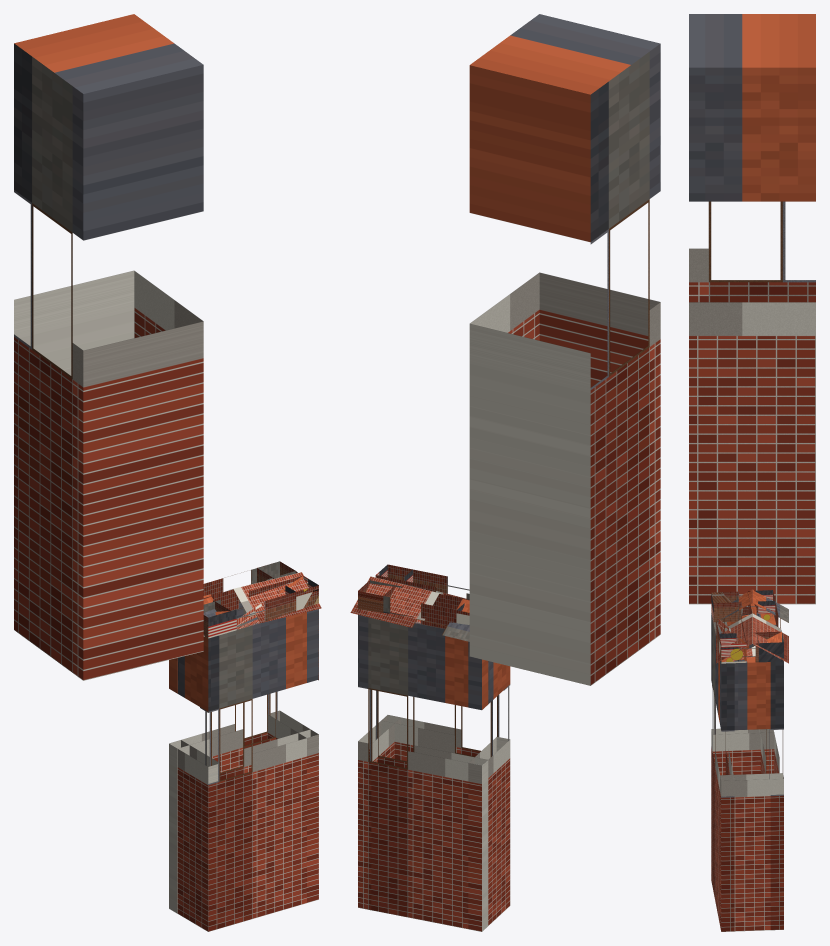
3 renders of one model, left to right at view 1: azimuth 30°, elevation 25°; view 2: azimuth 150°, elevation 25°; view 3: azimuth 270°, elevation 25°, orthographic. The views are drawn at different scales.
Parts seen in each view (by area): view 1: 238636764__chimney_0_xb, 238636764__wall_1_xb, 238636764__wall_0_xb, 238636764__wall_3_xb, 238636764__wall_2_xb, 238636764__cornice_1, 238636764_roof_-1_xb, 238636764__cornice_3; view 2: 238636764__chimney_0_xb, 238636764__wall_3_xb, 238636764__wall_0_xb, 238636764__wall_2_xb, 238636764__wall_1_xb, 238636764_roof_1_xb, 238636764__cornice_3, 238636764__cornice_1, 238636764__cornice_2; view 3: 238636764__chimney_0_xb, 238636764__wall_2_xb, 238636764__wall_1_xb, 238636764__wall_3_xb, 238636764__wall_0_xb, 238636764__cornice_0, 238636764_roof_1_xb, 238636764_roof_-1_xb, 238636764__cornice_1, 238636764__cornice_2, 238636764__cornice_3.
Boxes of the visible parts, <box> form: 238636764__chimney_0_xb: <box>14,14,203,680</box>; 238636764__wall_1_xb: <box>200,612,318,931</box>; 238636764__wall_0_xb: <box>177,637,218,931</box>; 238636764__wall_3_xb: <box>169,600,277,913</box>; 238636764__wall_2_xb: <box>267,609,318,902</box>; 238636764__cornice_1: <box>203,575,318,638</box>; 238636764_roof_-1_xb: <box>203,572,321,636</box>; 238636764__cornice_3: <box>203,561,295,610</box>; 238636764__chimney_0_xb: <box>469,14,660,685</box>; 238636764__wall_3_xb: <box>358,618,488,931</box>; 238636764__wall_0_xb: <box>468,641,510,931</box>; 238636764__wall_2_xb: <box>358,614,401,910</box>; 238636764__wall_1_xb: <box>381,684,510,761</box>; 238636764_roof_1_xb: <box>350,576,469,641</box>; 238636764__cornice_3: <box>365,580,469,628</box>; 238636764__cornice_1: <box>375,564,469,599</box>; 238636764__cornice_2: <box>358,565,412,612</box>; 238636764__chimney_0_xb: <box>689,14,815,604</box>; 238636764__wall_2_xb: <box>720,656,783,931</box>; 238636764__wall_1_xb: <box>711,613,734,931</box>; 238636764__wall_3_xb: <box>759,613,783,930</box>; 238636764__wall_0_xb: <box>711,614,774,775</box>; 238636764__cornice_0: <box>712,590,775,622</box>; 238636764_roof_1_xb: <box>752,590,788,663</box>; 238636764_roof_-1_xb: <box>716,589,752,663</box>; 238636764__cornice_1: <box>711,592,746,663</box>; 238636764__cornice_2: <box>719,631,783,662</box>; 238636764__cornice_3: <box>747,590,783,662</box>.
Size of the model in its own units: 0.3161 by 1.05 by 0.15.
Materials: 1 (1 with a texture image).
